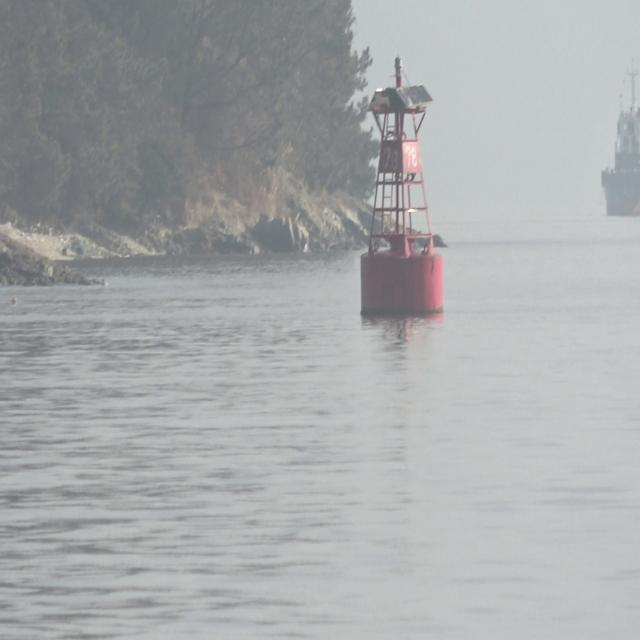ship: (599, 61, 640, 218)
